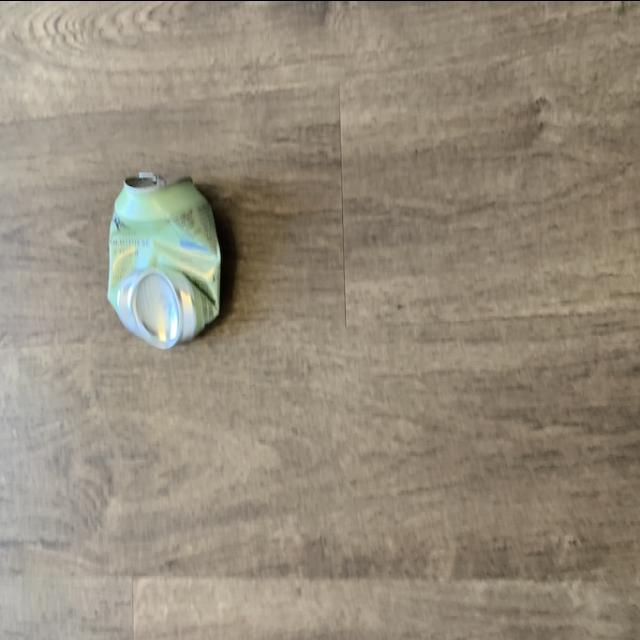litter: (96, 160, 238, 369)
